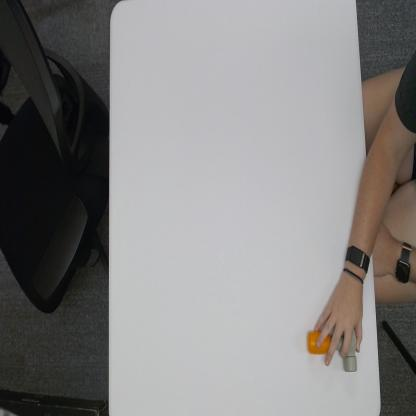Arm: (350, 146, 382, 241)
Hammer: (307, 326, 360, 372)
Hand: (316, 271, 363, 365)
